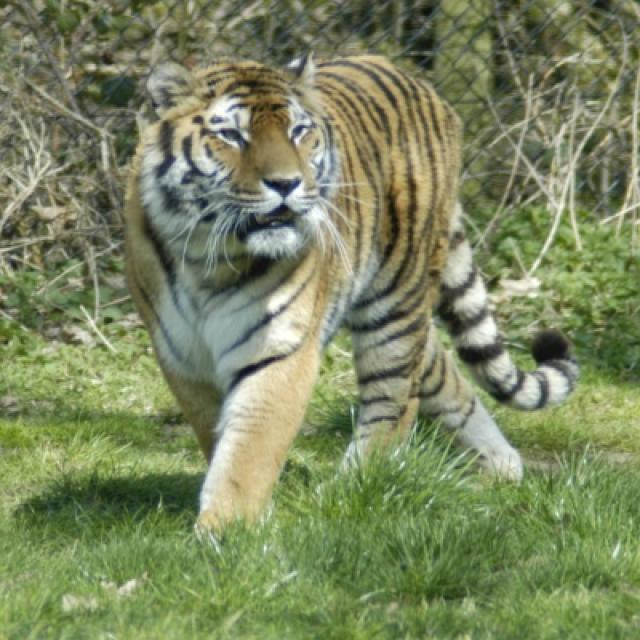Tiger: (121, 49, 575, 534)
